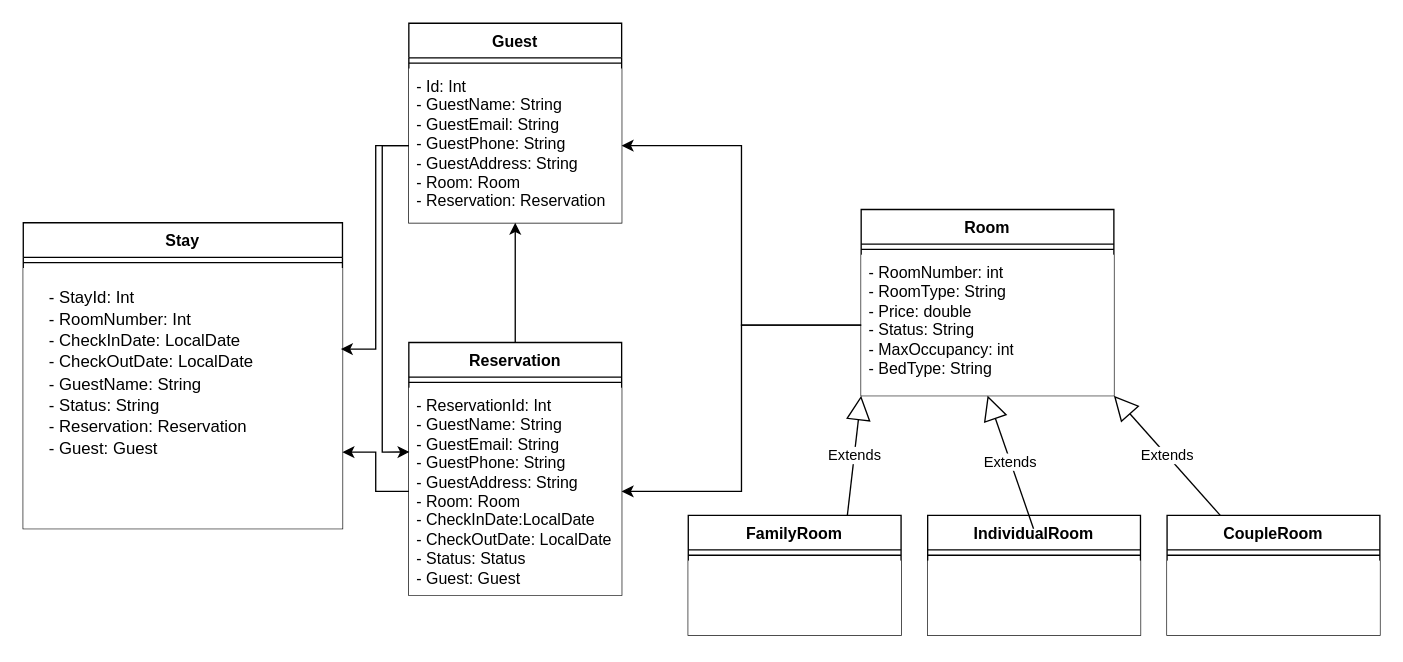
The diagram is 1403 pixels wide and 662 high, and some of its shapes have lost their labels. The centre of each missing label's shape, as x and y in pixels:
"- HasAConsole: Boolean" belongs at point (1033, 597).
"- HasCradle: Boolean" belongs at point (794, 597).
"- HasKitchen: Boolean" belongs at point (1272, 597).
